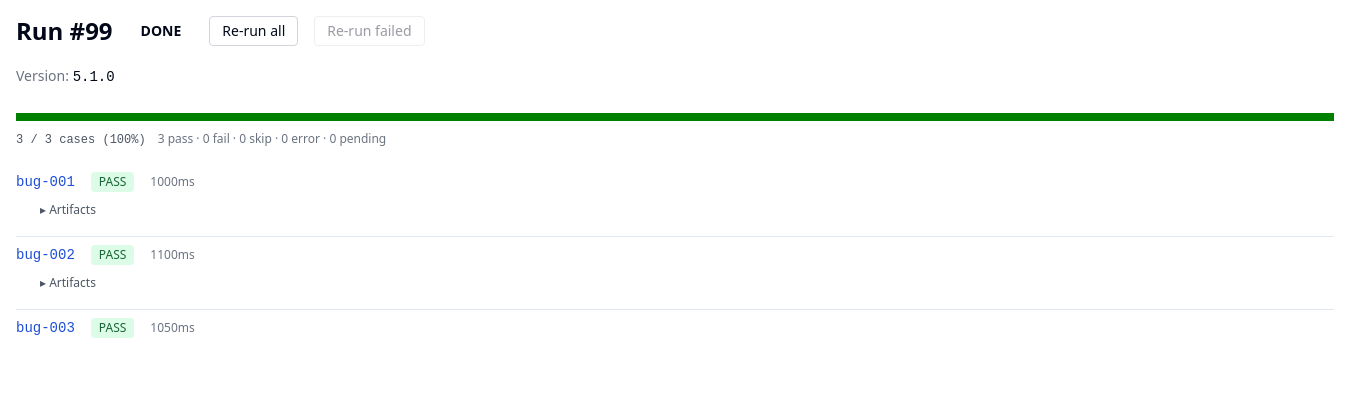
Test case: RunDetailPage › clicking artifacts toggle lazy-fetches + shows file list
Click the button with test id "artifacts-toggle-bug-001".
click(68, 210)  # box [40, 202, 96, 218]
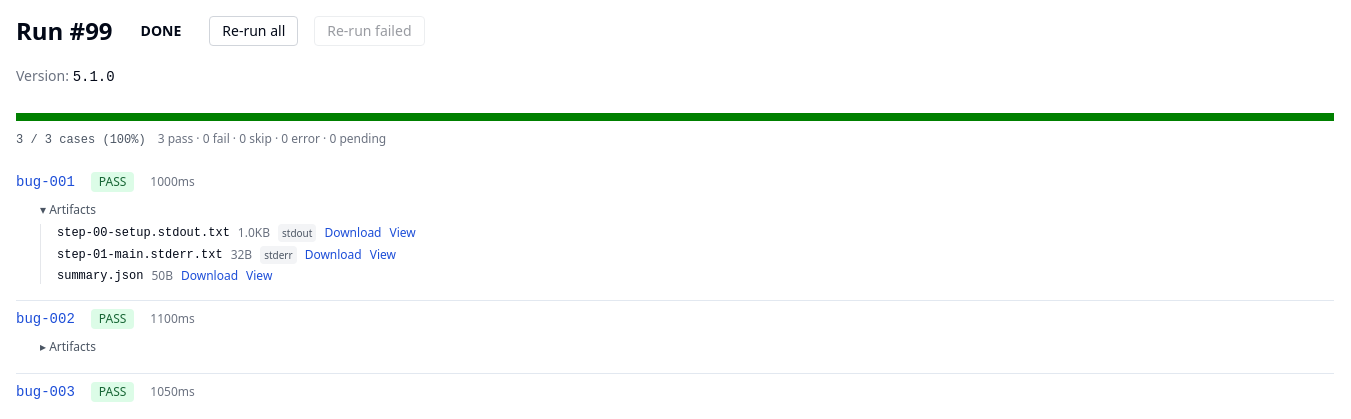
Result: the list with test id "artifacts-list-bug-001" is shown at [57, 224, 416, 284]
Result: the list item with test id "artifact-item-bug-001-step-00-setup.stdout.txt" is shown at [57, 224, 416, 242]
Result: the list item with test id "artifact-item-bug-001-step-01-main.stderr.txt" is shown at [57, 246, 396, 264]
